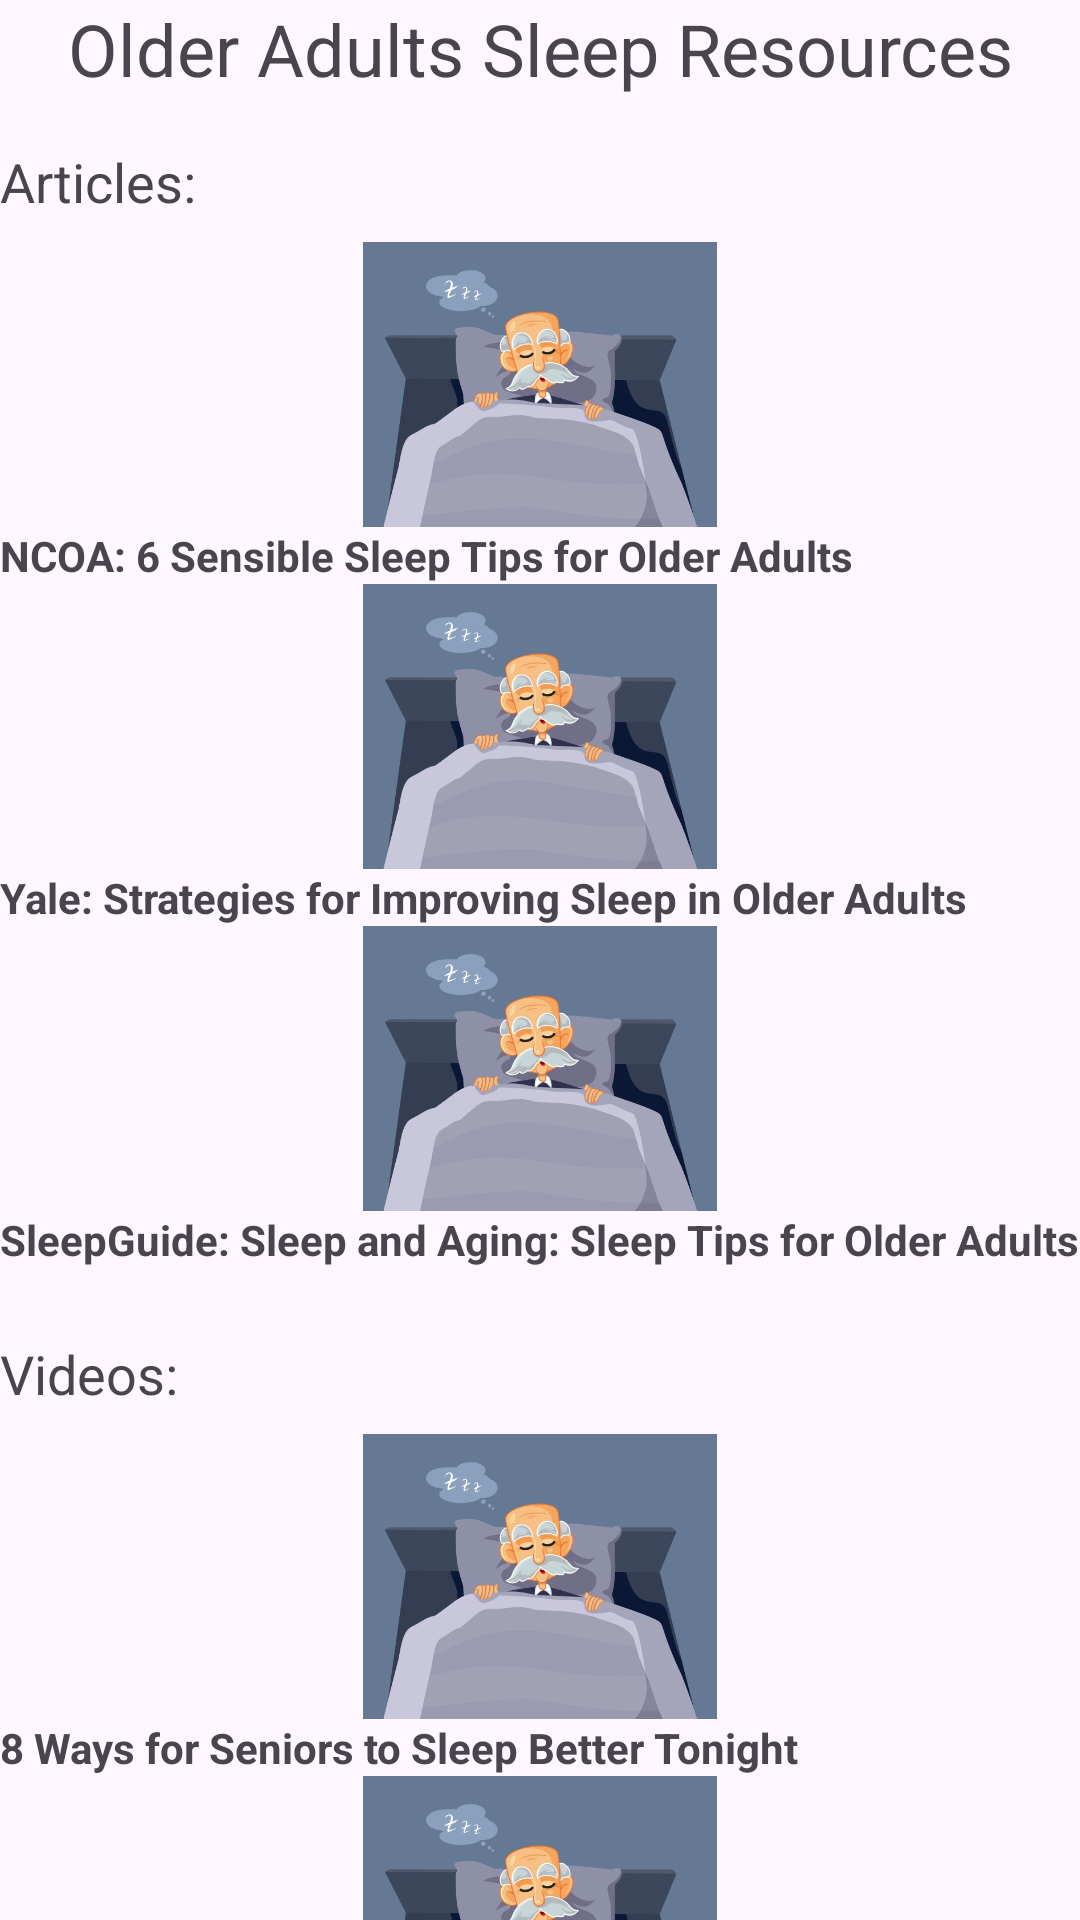

Screen size 1080w x 1920h. Icon name, then its center in pixels as [x,y]:
Older Adult Sleep Article 1: [540,384]
Older Adult Sleep Article 2: [540,726]
Older Adult Sleep Article 3: [540,1068]
Older Adult Sleep Video 1: [540,1576]
